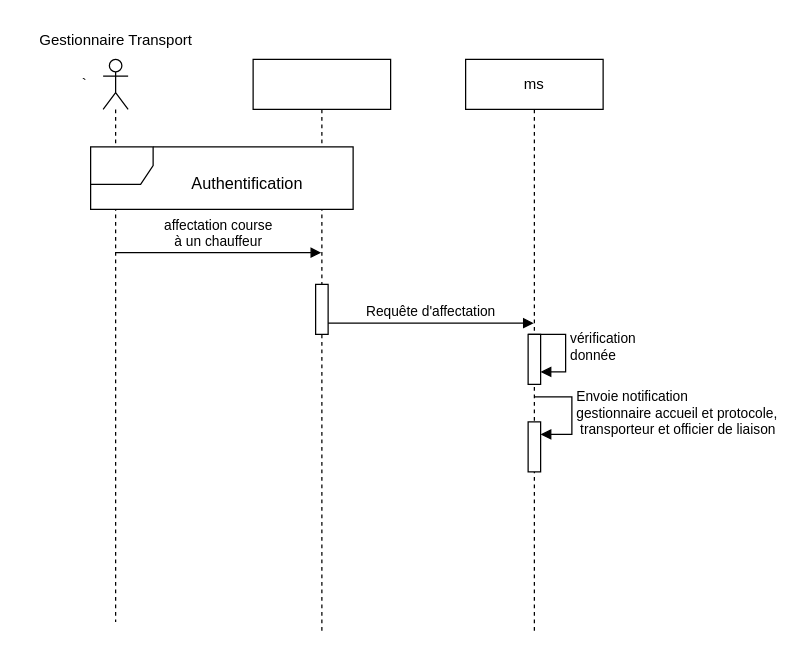
This 799x656 diagram has some shape labels left out. The shapes that lost their labels are listed below. From the top down, each one's centre as x and y in pixels, then its label:
At (221,177): "Ref".
At (321,346): "web-admin".
